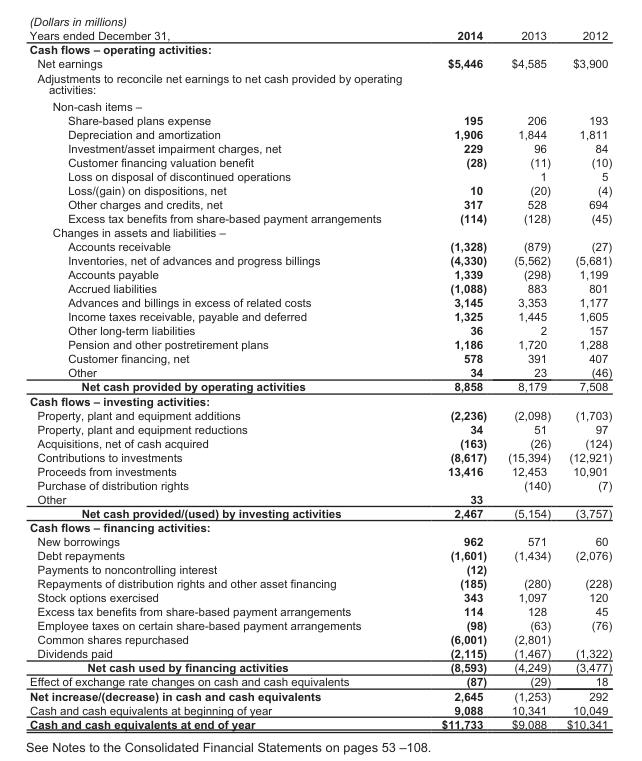table: (28, 28, 611, 730)
table column: (28, 28, 410, 730), (410, 28, 496, 730), (496, 28, 558, 730), (558, 28, 611, 730)
table column header: (28, 28, 611, 42)
table projected row header: (28, 70, 611, 97), (28, 97, 611, 112), (28, 224, 611, 239), (28, 42, 611, 56), (28, 393, 611, 407), (28, 519, 611, 533)
table row: (28, 70, 611, 97), (28, 97, 611, 112), (28, 224, 611, 239), (28, 533, 611, 548), (28, 28, 611, 42), (28, 42, 611, 56), (28, 56, 611, 70), (28, 112, 611, 126), (28, 126, 611, 140), (28, 140, 611, 154), (28, 154, 611, 168), (28, 168, 611, 182), (28, 182, 611, 196), (28, 196, 611, 210), (28, 210, 611, 224), (28, 239, 611, 253), (28, 253, 611, 267), (28, 267, 611, 281), (28, 281, 611, 295), (28, 295, 611, 309), (28, 309, 611, 323), (28, 323, 611, 337), (28, 337, 611, 351), (28, 351, 611, 365), (28, 365, 611, 379), (28, 379, 611, 393), (28, 393, 611, 407), (28, 407, 611, 421), (28, 421, 611, 435), (28, 435, 611, 449), (28, 449, 611, 463), (28, 463, 611, 477), (28, 477, 611, 491), (28, 491, 611, 505), (28, 505, 611, 519), (28, 519, 611, 533), (28, 548, 611, 562), (28, 562, 611, 576), (28, 576, 611, 590), (28, 590, 611, 604), (28, 604, 611, 618), (28, 618, 611, 632), (28, 632, 611, 646), (28, 646, 611, 660), (28, 660, 611, 674), (28, 674, 611, 688), (28, 688, 611, 702), (28, 702, 611, 716), (28, 716, 611, 730)
